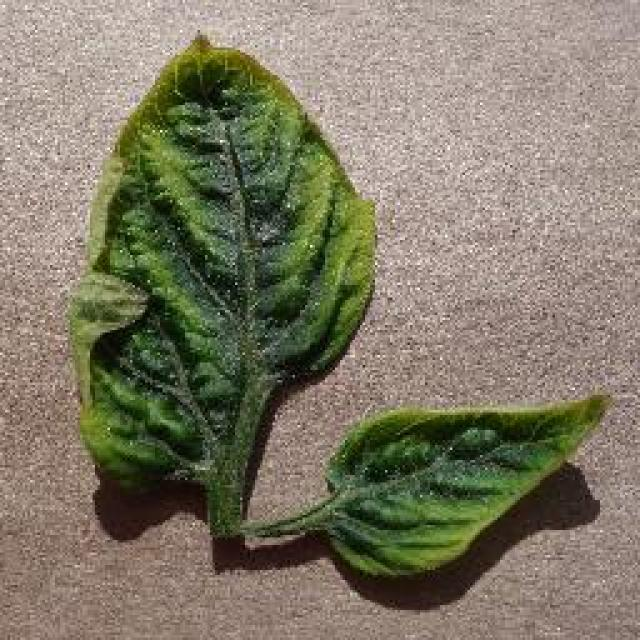Tom_Yellow_Leaf_Curl_Virus: (58, 51, 366, 456)
